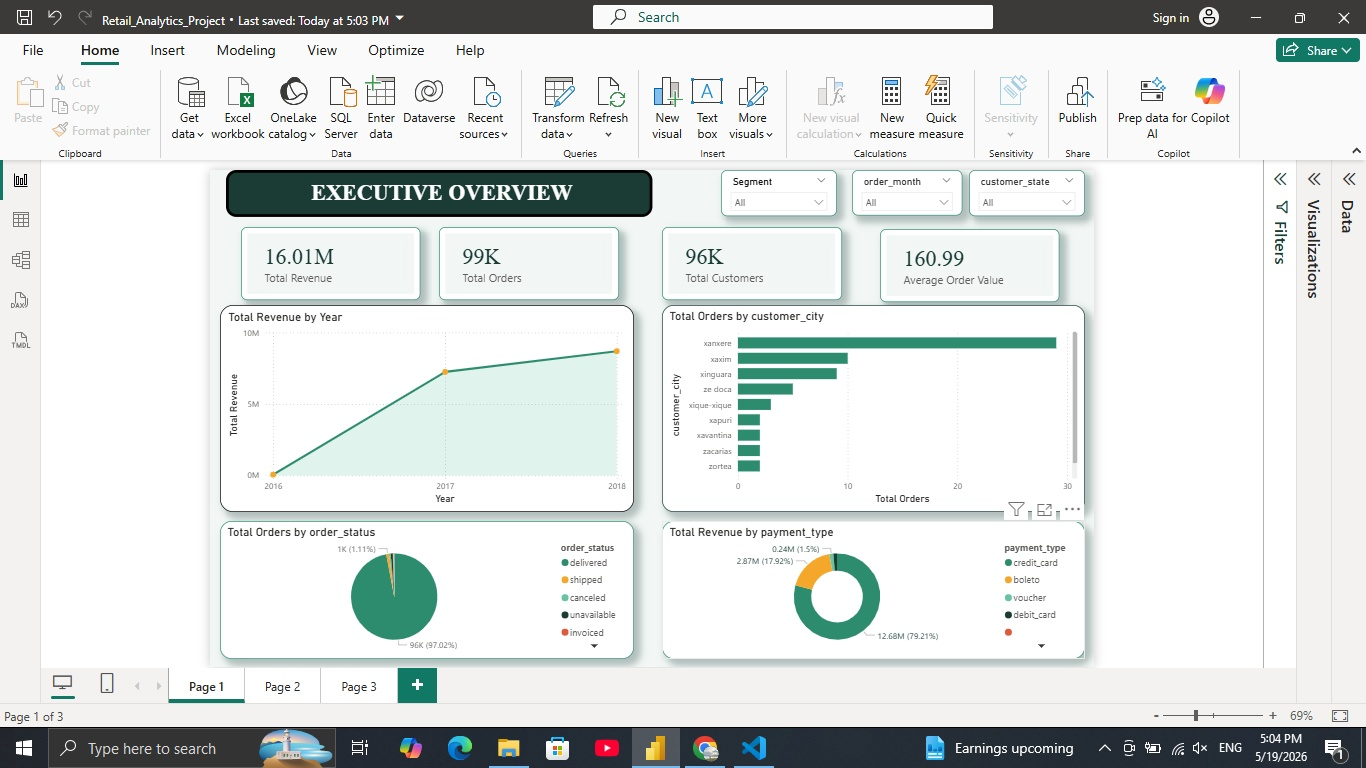

The dashboard page shown, as its layout file describes it:
{"tool":"powerbi","page":{"name":"Page 1","canvas":[1280,720],"ordinal":0},"visuals":[{"type":"cardVisual","fields":{"Data":["master_dataset.Total Customers"]},"box":[654.8,82.2,260.8,106.3],"z":0},{"type":"cardVisual","fields":{"Data":["master_dataset.Total Orders"]},"box":[331.7,82.2,260.8,106],"z":1000},{"type":"cardVisual","fields":{"Data":["master_dataset.Total Revenue"]},"box":[45.4,82.2,260,106.3],"z":2000},{"type":"cardVisual","fields":{"Data":["master_dataset.Average Order Value"]},"box":[970.9,85,260,106],"z":3000},{"type":"lineChart","fields":{"Category":["master_dataset.order_month.Variation.Date Hierarchy.Year","master_dataset.order_month.Variation.Date Hierarchy.Quarter","master_dataset.order_month.Variation.Date Hierarchy.Month","master_dataset.order_month.Variation.Date Hierarchy.Day"],"Y":["master_dataset.Total Revenue"]},"box":[15,195,600,300],"z":4000},{"type":"barChart","fields":{"Category":["master_dataset.customer_city"],"Y":["master_dataset.Total Orders"]},"box":[655,195,613.3,300],"z":5000},{"type":"donutChart","fields":{"Category":["master_dataset.payment_type"],"Y":["master_dataset.Total Revenue"]},"box":[655,508.3,613.3,200],"z":6000},{"type":"pieChart","fields":{"Category":["master_dataset.order_status"],"Y":["master_dataset.Total Orders"]},"box":[15,508.3,600,200],"z":7000},{"type":"slicer","fields":{"Values":["master_dataset.order_month"]},"box":[930,0,160,66],"z":8000},{"type":"slicer","fields":{"Values":["customer_segments.Segment"]},"box":[740,0,168.3,66.7],"z":9000},{"type":"slicer","fields":{"Values":["master_dataset.customer_state"]},"box":[1100,0,168.3,66.7],"z":10000},{"type":"textbox","box":[22.7,0,618,68],"z":11000}]}

Visuals, with their boxes on the page's 1280x720 design canvas (x1, y1, x2, y2). These are canvas units, not pixel positions in the 1366x768 screenshot, which may show the page scaled, cropped or inside an application window:
cardVisual - master_dataset.Total Customers: 655, 82, 916, 188
cardVisual - master_dataset.Total Orders: 332, 82, 592, 188
cardVisual - master_dataset.Total Revenue: 45, 82, 305, 188
cardVisual - master_dataset.Average Order Value: 971, 85, 1231, 191
lineChart - master_dataset.order_month.Variation.Date Hierarchy.Year x master_dataset.order_month.Variation.Date Hierarchy.Quarter: 15, 195, 615, 495
barChart - master_dataset.customer_city x master_dataset.Total Orders: 655, 195, 1268, 495
donutChart - master_dataset.payment_type x master_dataset.Total Revenue: 655, 508, 1268, 708
pieChart - master_dataset.order_status x master_dataset.Total Orders: 15, 508, 615, 708
slicer - master_dataset.order_month: 930, 0, 1090, 66
slicer - customer_segments.Segment: 740, 0, 908, 67
slicer - master_dataset.customer_state: 1100, 0, 1268, 67
textbox: 23, 0, 641, 68
